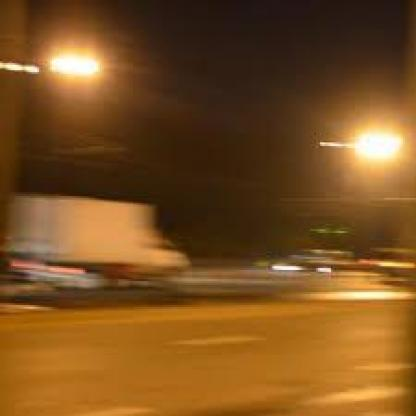other: (42, 43, 127, 96), (349, 118, 397, 165)
